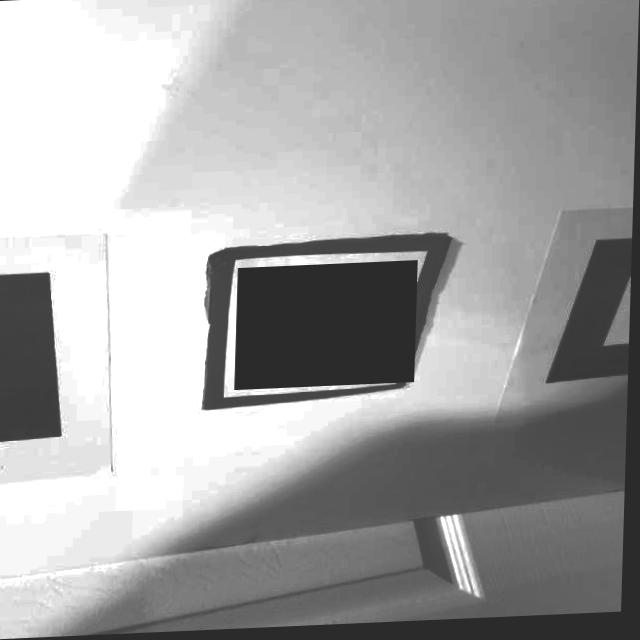qr_code: (238, 263, 420, 391)
